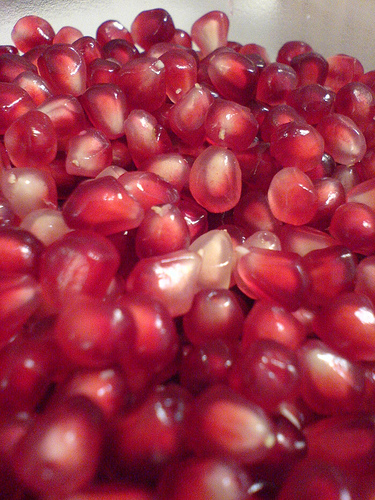pomogranate: (3, 1, 372, 498)
